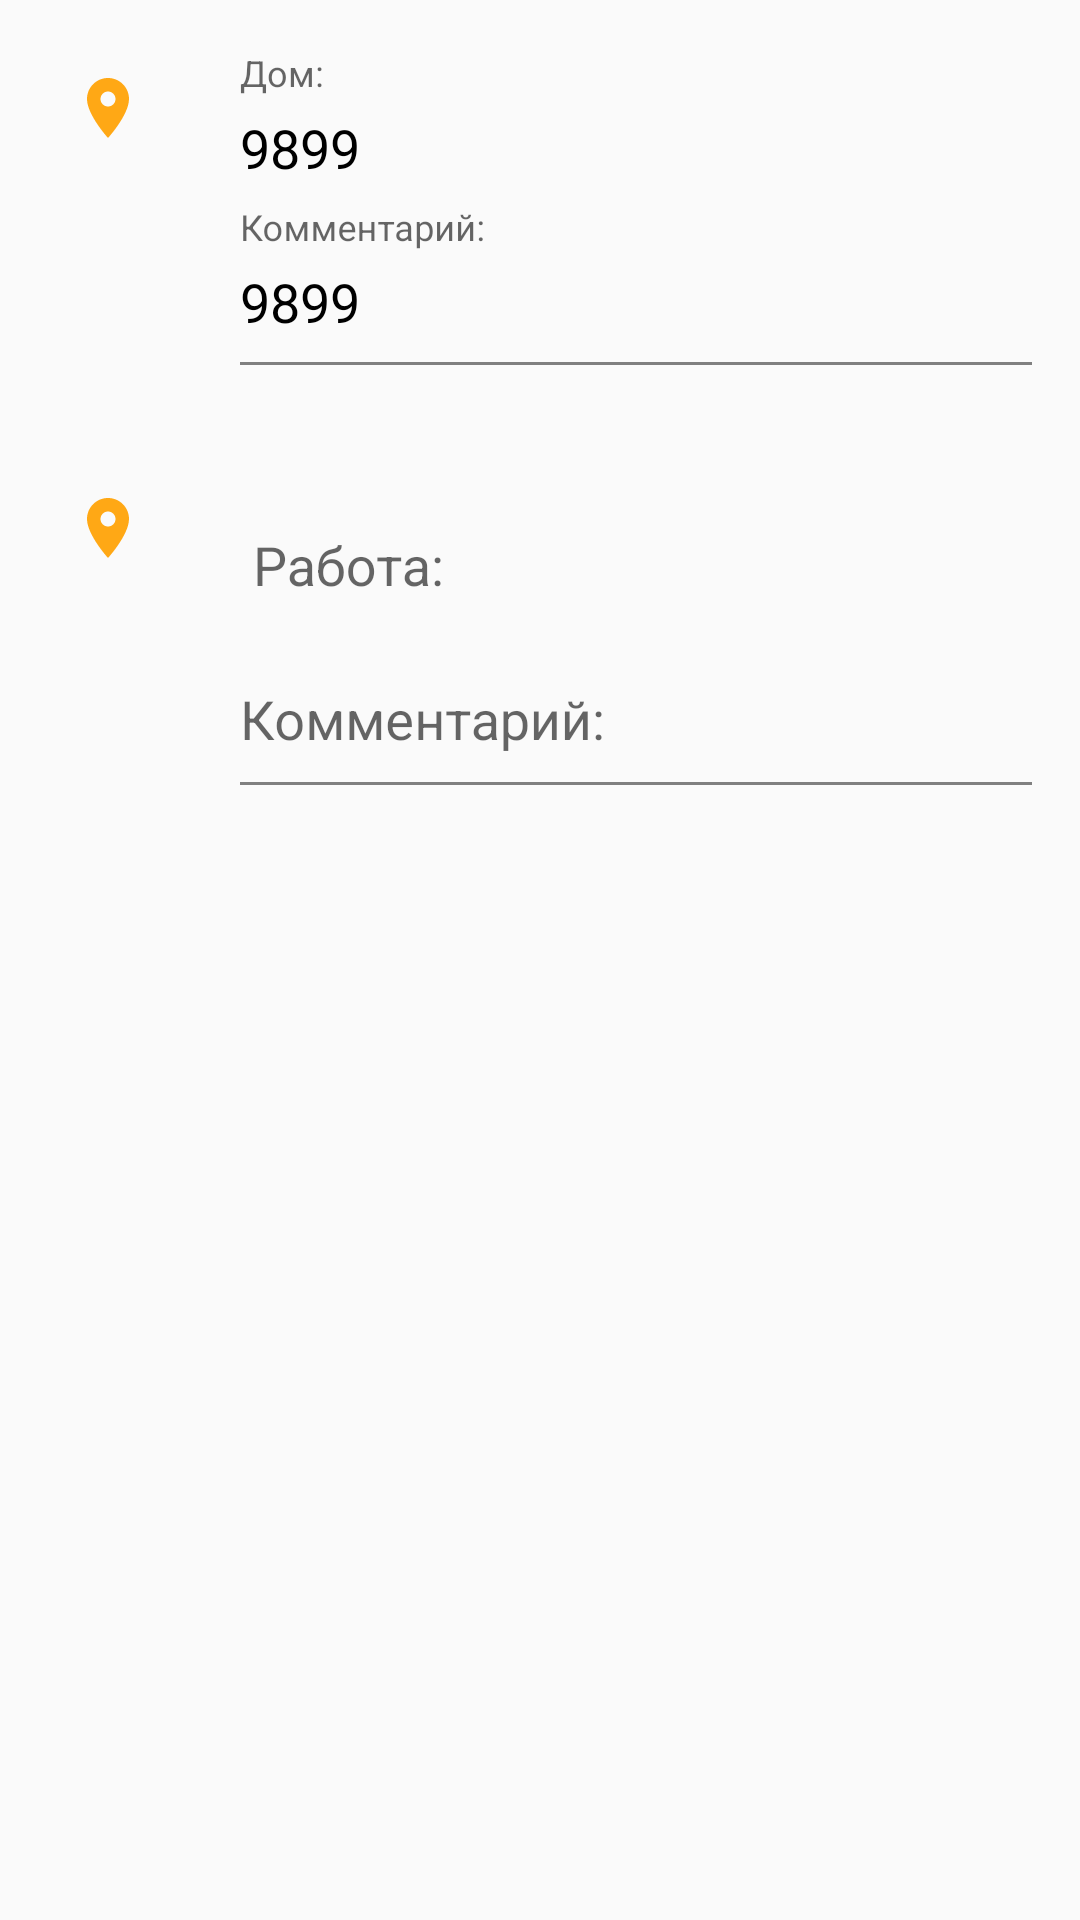

Icons on this 1080px x 1920px Android screen, each with the point to tap as [x,y]:
location on: [108,108], [108,528]
